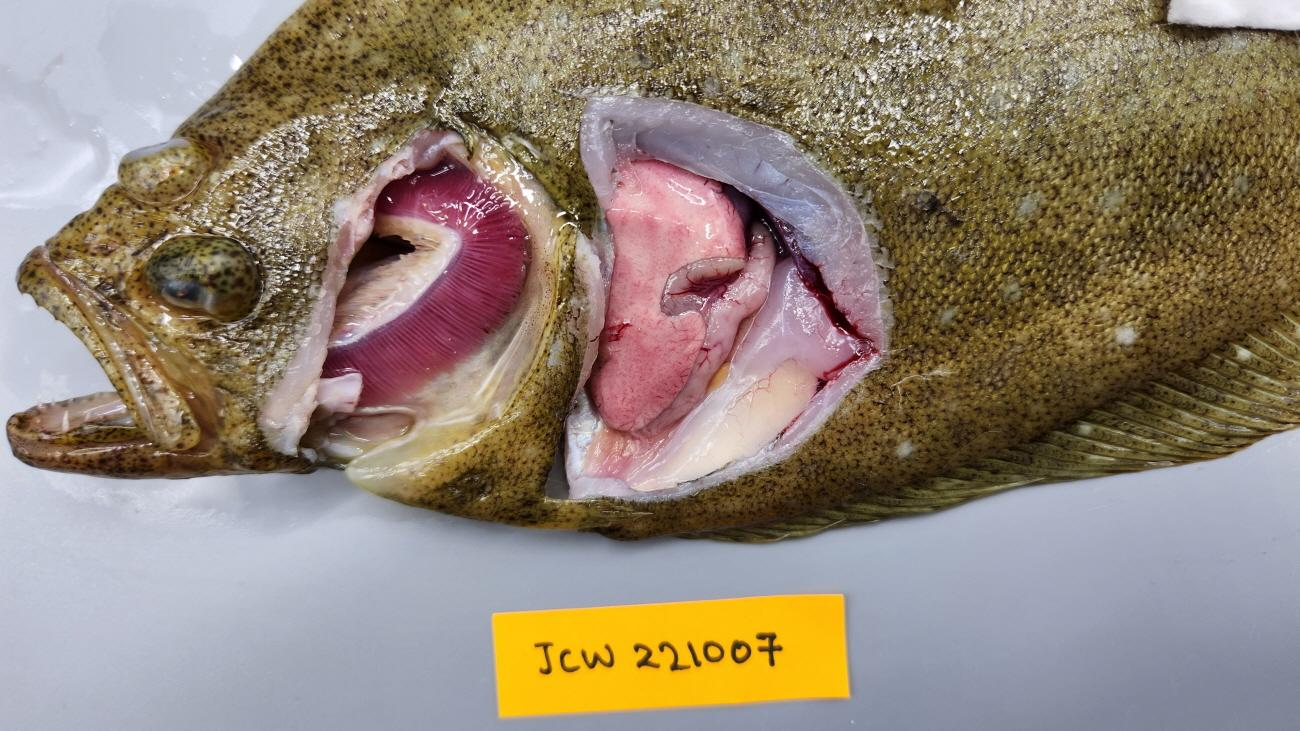POGIN: (319, 157, 531, 407)
POLIN: (588, 159, 747, 432)
